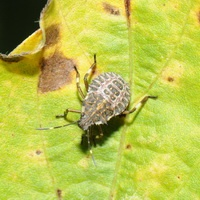insect: (37, 53, 156, 147)
